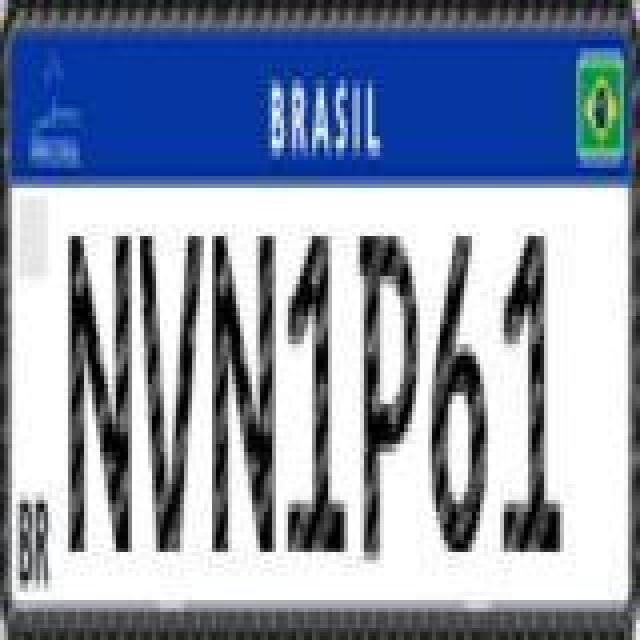1: (500, 226, 564, 558), (284, 228, 348, 556)
6: (428, 224, 492, 560)
N: (210, 226, 278, 558), (66, 232, 134, 560)
P: (356, 228, 420, 572)
V: (138, 226, 206, 558)
